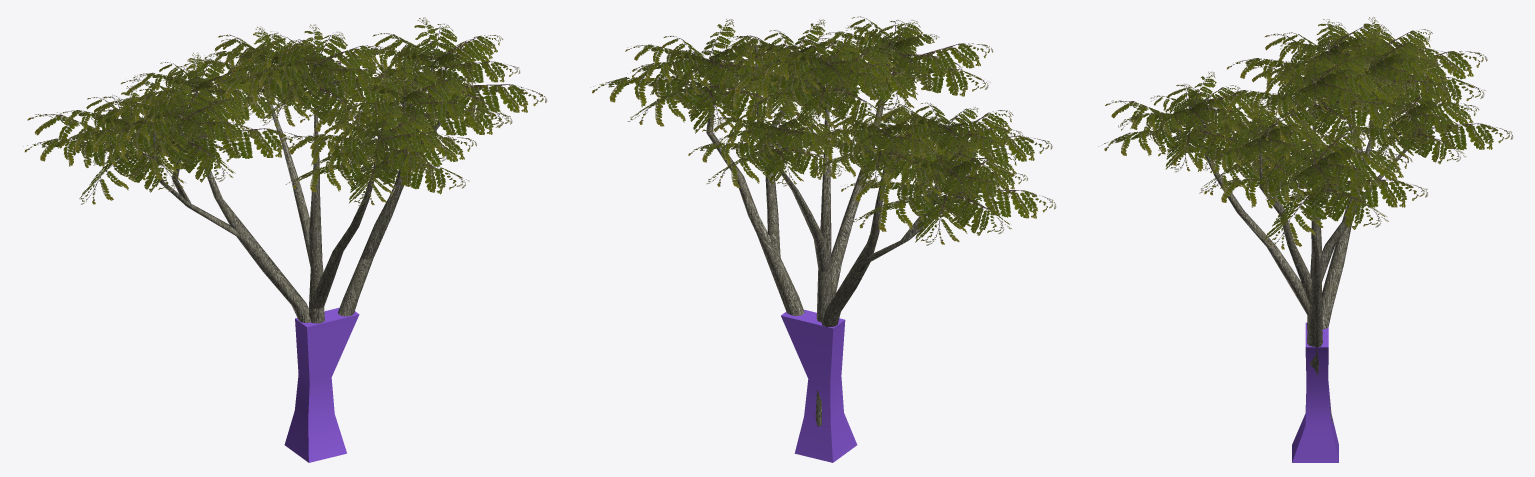
File: umbrellaAcaciaFul_01.dae
The picture shows the model from 3 angles, left to right: view 1: azimuth 30°, elevation 25°; view 2: azimuth 150°, elevation 25°; view 3: azimuth 270°, elevation 25°; orthographic projection. The views are drawn at different scales.
Visible parts, largest first — view 1: umbrellaAcaciaFull700, umbrellaAcaciaFull300, col-1; view 2: umbrellaAcaciaFull700, umbrellaAcaciaFull300, col-1; view 3: umbrellaAcaciaFull700, umbrellaAcaciaFull300, col-1.
Part boxes in pixels (bbox=[...]): umbrellaAcaciaFull700: bbox=[23, 17, 542, 323]; umbrellaAcaciaFull300: bbox=[25, 19, 547, 318]; col-1: bbox=[284, 307, 359, 462]; umbrellaAcaciaFull700: bbox=[590, 16, 1056, 426]; umbrellaAcaciaFull300: bbox=[592, 19, 1048, 320]; col-1: bbox=[781, 309, 857, 462]; umbrellaAcaciaFull700: bbox=[1098, 17, 1511, 423]; umbrellaAcaciaFull300: bbox=[1105, 19, 1513, 363]; col-1: bbox=[1292, 322, 1338, 462].
Bounding box in the file's own units: 589 × 491 × 496.
